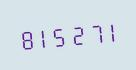eight: (17, 24, 33, 52)
five: (52, 21, 68, 49)
one: (34, 22, 50, 51), (103, 16, 119, 45)
seven: (86, 18, 102, 46)
two: (69, 19, 85, 48)
